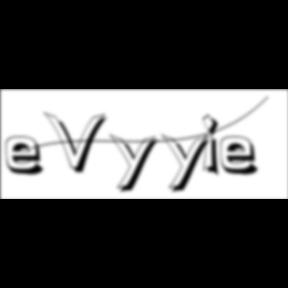V: (44, 110, 112, 176)
e: (6, 135, 52, 178), (220, 135, 266, 178)
i: (203, 112, 227, 180)
y: (110, 132, 164, 196), (162, 132, 216, 196)
